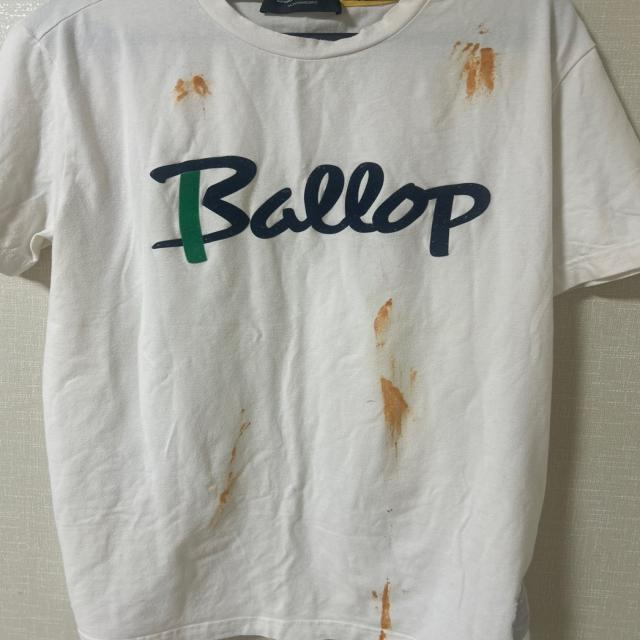stain: (443, 42, 500, 96), (219, 415, 245, 512), (381, 377, 410, 451), (370, 292, 394, 355), (374, 579, 396, 640), (176, 75, 212, 104), (390, 357, 420, 382), (470, 17, 487, 44), (387, 506, 395, 517)
